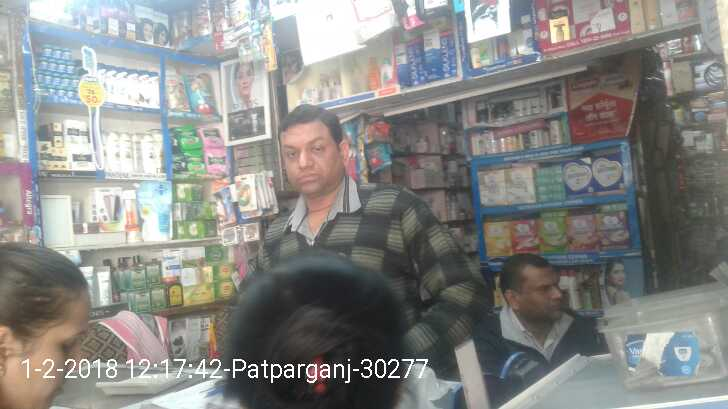beauty: (64, 121, 91, 148), (67, 149, 94, 170), (121, 133, 133, 171), (145, 135, 157, 173), (138, 70, 150, 106), (46, 120, 62, 146), (126, 69, 137, 105), (110, 133, 120, 171), (135, 135, 145, 172), (117, 68, 126, 104), (107, 67, 116, 102), (150, 73, 159, 107), (99, 65, 107, 100), (42, 149, 50, 169), (52, 149, 59, 168), (60, 150, 66, 169)
pharmacy: (187, 75, 216, 112), (166, 75, 188, 109), (175, 129, 202, 148), (207, 151, 227, 174), (183, 152, 206, 171), (201, 126, 223, 145), (57, 60, 67, 73), (43, 44, 53, 55), (62, 48, 72, 59), (48, 60, 58, 71), (67, 62, 75, 75), (53, 47, 62, 58), (39, 57, 48, 68), (46, 74, 53, 85), (61, 78, 70, 86), (38, 72, 45, 82), (54, 75, 61, 85), (65, 92, 75, 99), (70, 79, 78, 87), (50, 86, 56, 95), (58, 90, 65, 97)
